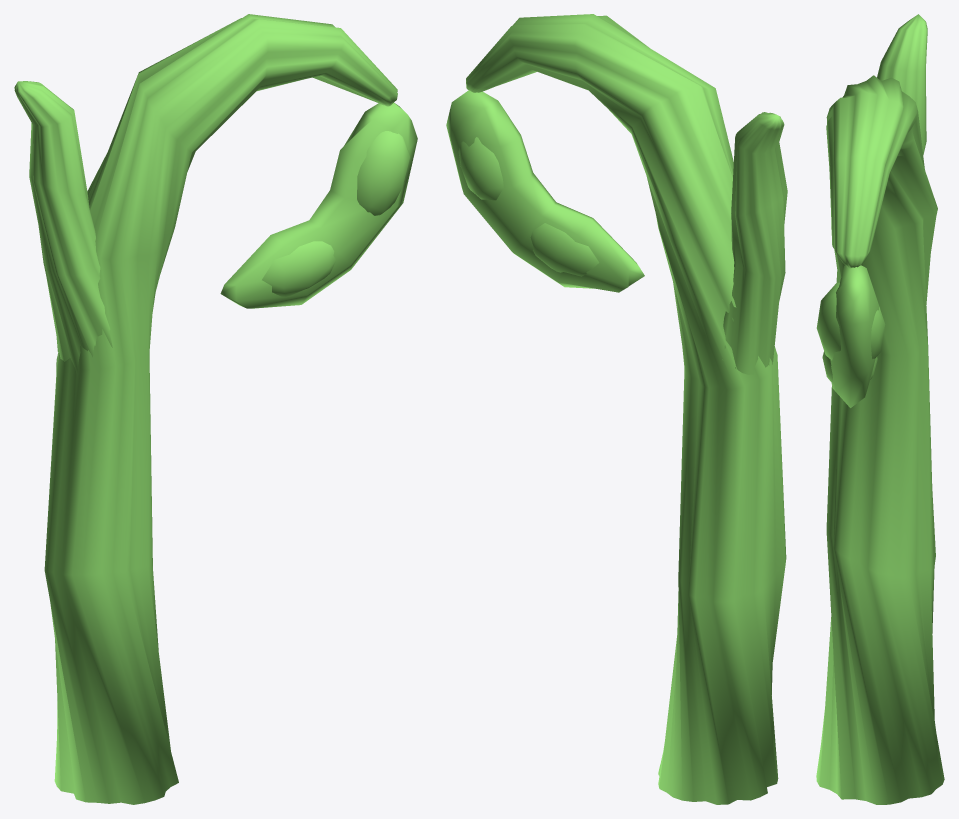
File: light.fbx
3 renders of one model, left to right at view 1: azimuth 30°, elevation 25°; view 2: azimuth 150°, elevation 25°; view 3: azimuth 270°, elevation 25°, orthographic. The views are drawn at different scales.
Parts seen in each view (by area): view 1: Cylinder, Icosphere.001, Cylinder.001; view 2: Cylinder, Icosphere.001, Cylinder.001; view 3: Cylinder, Icosphere.001, Cylinder.001.
Part boxes in pixels (x1,y1,x2,y2): Cylinder: (44,14,397,804); Icosphere.001: (220,103,417,308); Cylinder.001: (14,81,112,374); Cylinder: (466,14,786,804); Icosphere.001: (446,90,644,292); Cylinder.001: (722,112,787,374); Cylinder: (816,75,944,804); Icosphere.001: (816,265,885,407); Cylinder.001: (877,14,927,154).
Size of the model in its own units: 685 by 1295 by 200.
